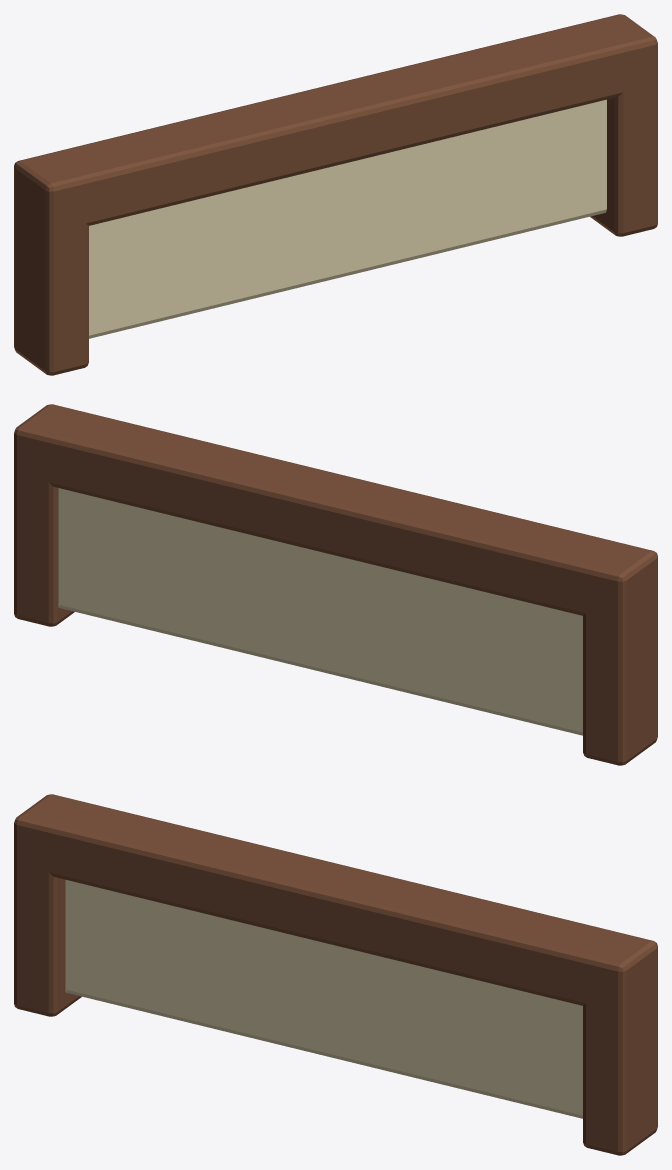
Rendered from wall_knee_2m.glb.
The picture shows the model from 3 angles, top to bottom: view 1: azimuth 30°, elevation 25°; view 2: azimuth 150°, elevation 25°; view 3: azimuth 330°, elevation 25°; orthographic projection.
Visible parts, largest first — view 1: wall_knee_2m__structure, wall_knee_2m__finish; view 2: wall_knee_2m__structure, wall_knee_2m__finish; view 3: wall_knee_2m__structure, wall_knee_2m__finish.
Part boxes in pixels (left/top/right/bottom): wall_knee_2m__structure: left=14, top=14, right=657, bottom=375; wall_knee_2m__finish: left=89, top=99, right=606, bottom=338; wall_knee_2m__structure: left=14, top=404, right=657, bottom=765; wall_knee_2m__finish: left=58, top=488, right=582, bottom=735; wall_knee_2m__structure: left=14, top=794, right=657, bottom=1155; wall_knee_2m__finish: left=65, top=879, right=582, bottom=1118.
Size of the model in its own units: 2 by 0.6 by 0.21.
